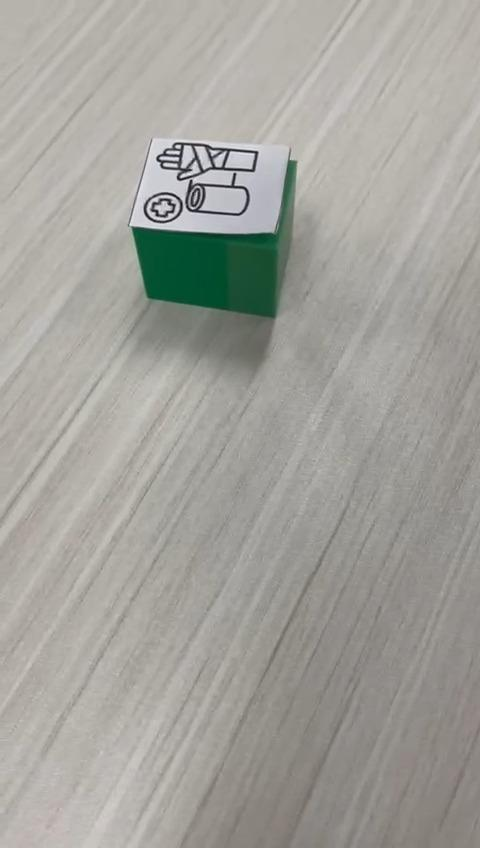Bandages: (127, 137, 298, 321)
